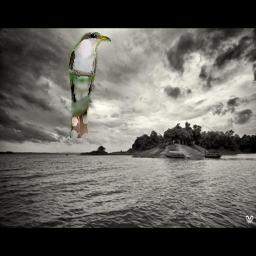Cuckoo: (68, 31, 111, 138)
